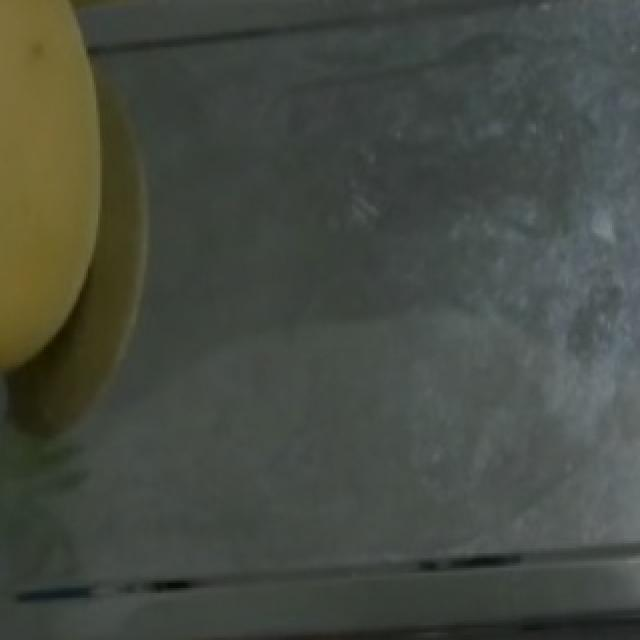fruit: (0, 62, 130, 397)
